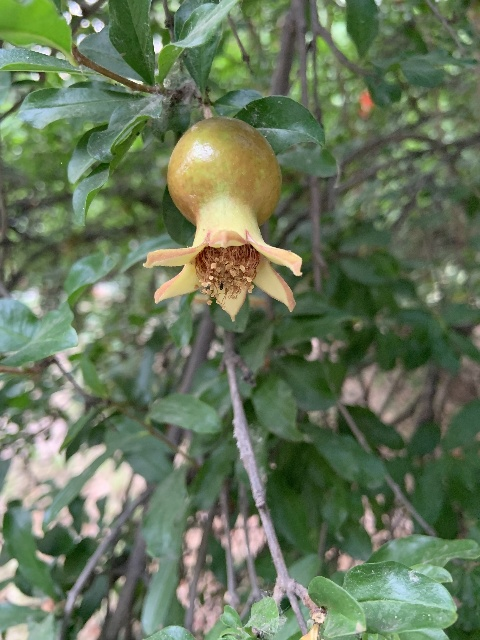early-fruit: (143, 116, 303, 322)
